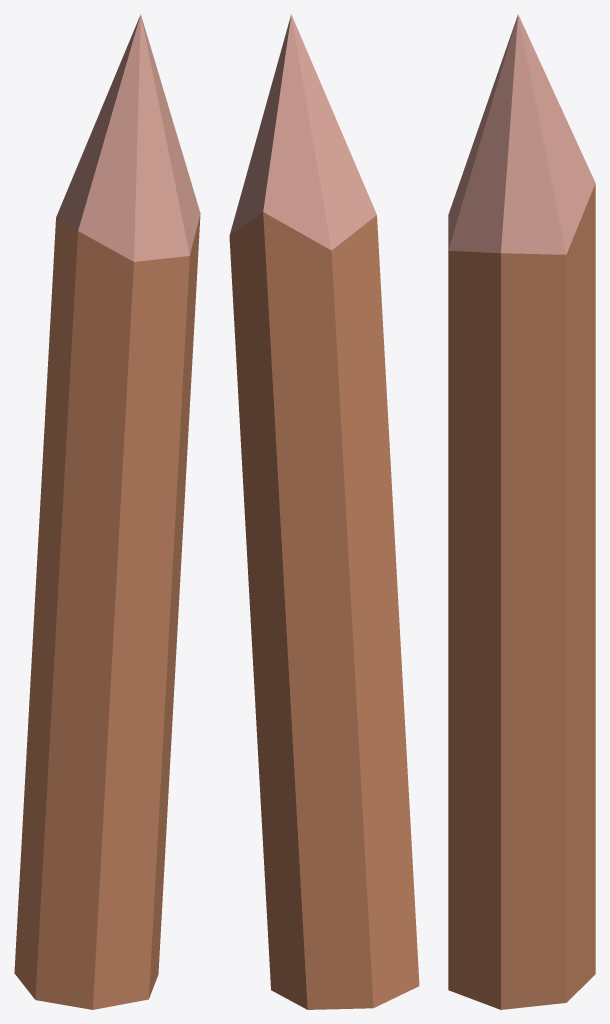
The model's file is LogA.fbx.
3 views of the same model, side by side, from view 1: azimuth 30°, elevation 25°; view 2: azimuth 150°, elevation 25°; view 3: azimuth 270°, elevation 25° (orthographic). The views are drawn at different scales.
Visible parts, largest first — view 1: LogA; view 2: LogA; view 3: LogA.
Part boxes in pixels (x1=…): LogA: x1=14, y1=14, x2=200, y2=1009; LogA: x1=229, y1=14, x2=419, y2=1009; LogA: x1=448, y1=14, x2=595, y2=1009.
Bounding box in the file's own units: 81.04 × 441 × 59.33.
